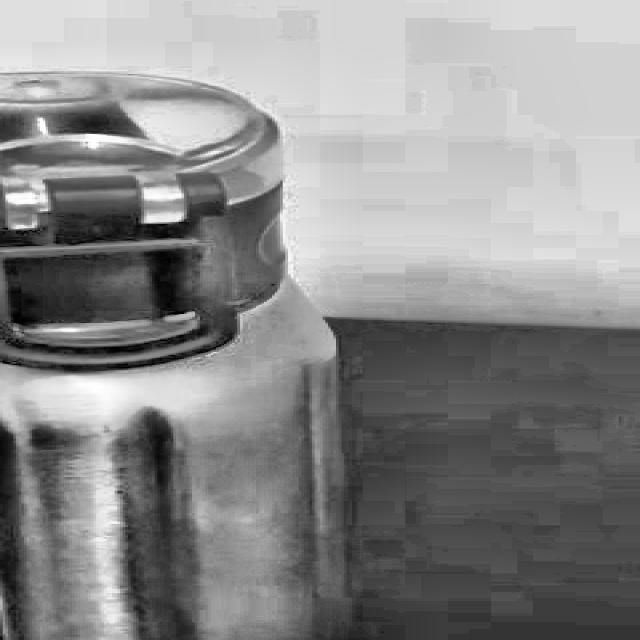bottle: (0, 71, 355, 640)
